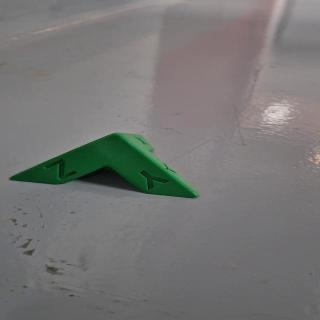eje: (6, 130, 204, 202)
